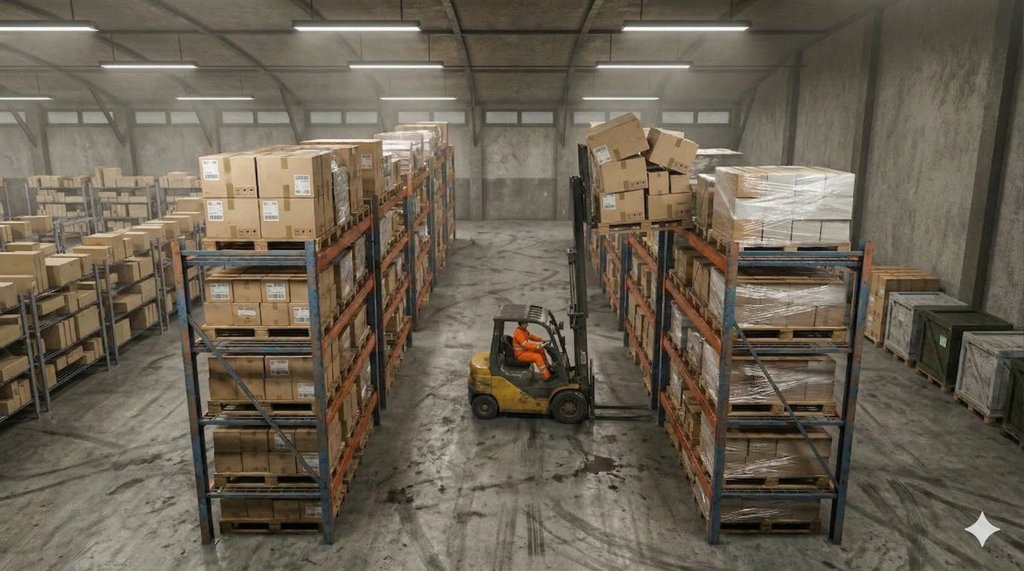forklift: (463, 292, 637, 435)
pallet: (196, 396, 324, 425)
person: (506, 322, 561, 387)
